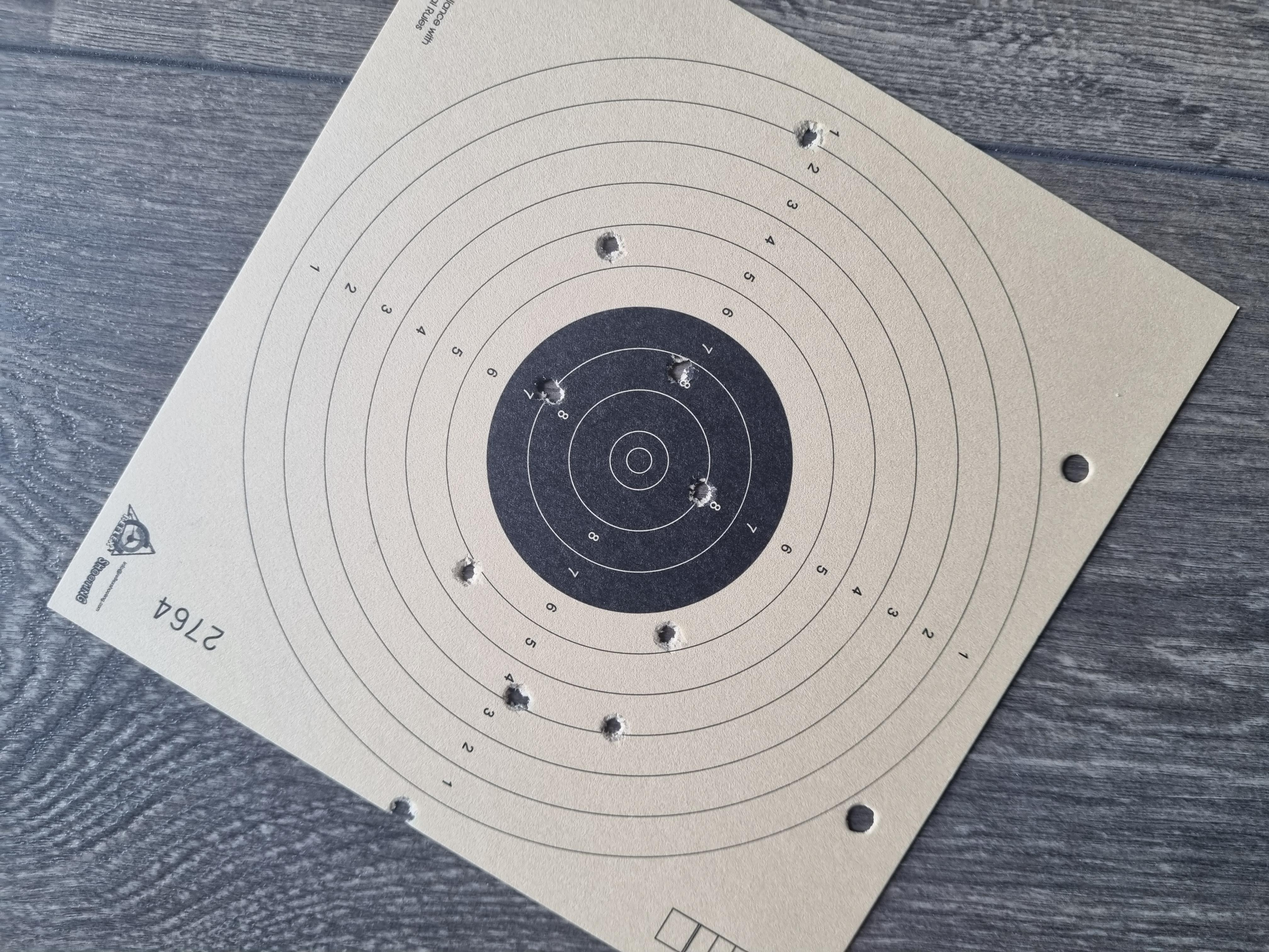hole: (920, 446, 960, 469), (488, 339, 531, 360), (1068, 595, 1108, 617), (593, 516, 632, 537), (756, 500, 796, 520), (402, 490, 440, 510), (320, 377, 357, 397), (280, 450, 317, 470), (172, 292, 207, 312), (740, 399, 769, 419), (729, 407, 755, 424)
